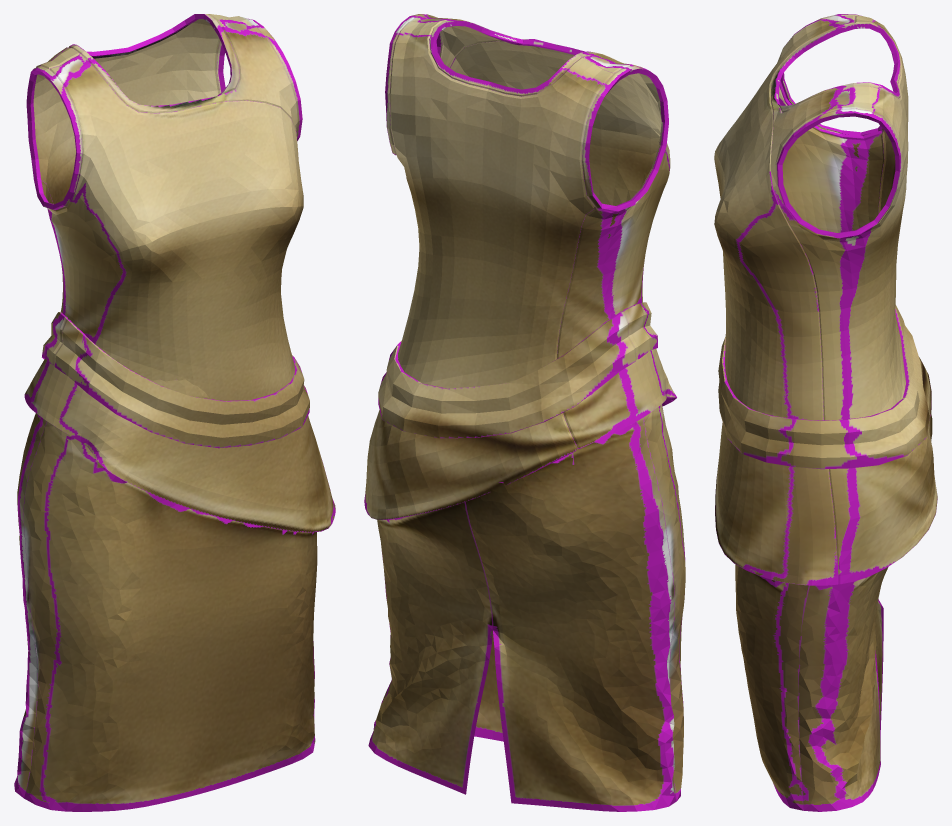
The picture shows the model from 3 angles, left to right: view 1: azimuth 30°, elevation 25°; view 2: azimuth 150°, elevation 25°; view 3: azimuth 270°, elevation 25°; orthographic projection. The views are drawn at different scales.
Size of the model in its own units: 0.4841 by 1.13 by 0.3278.
Materials: 1 (1 with a texture image).
